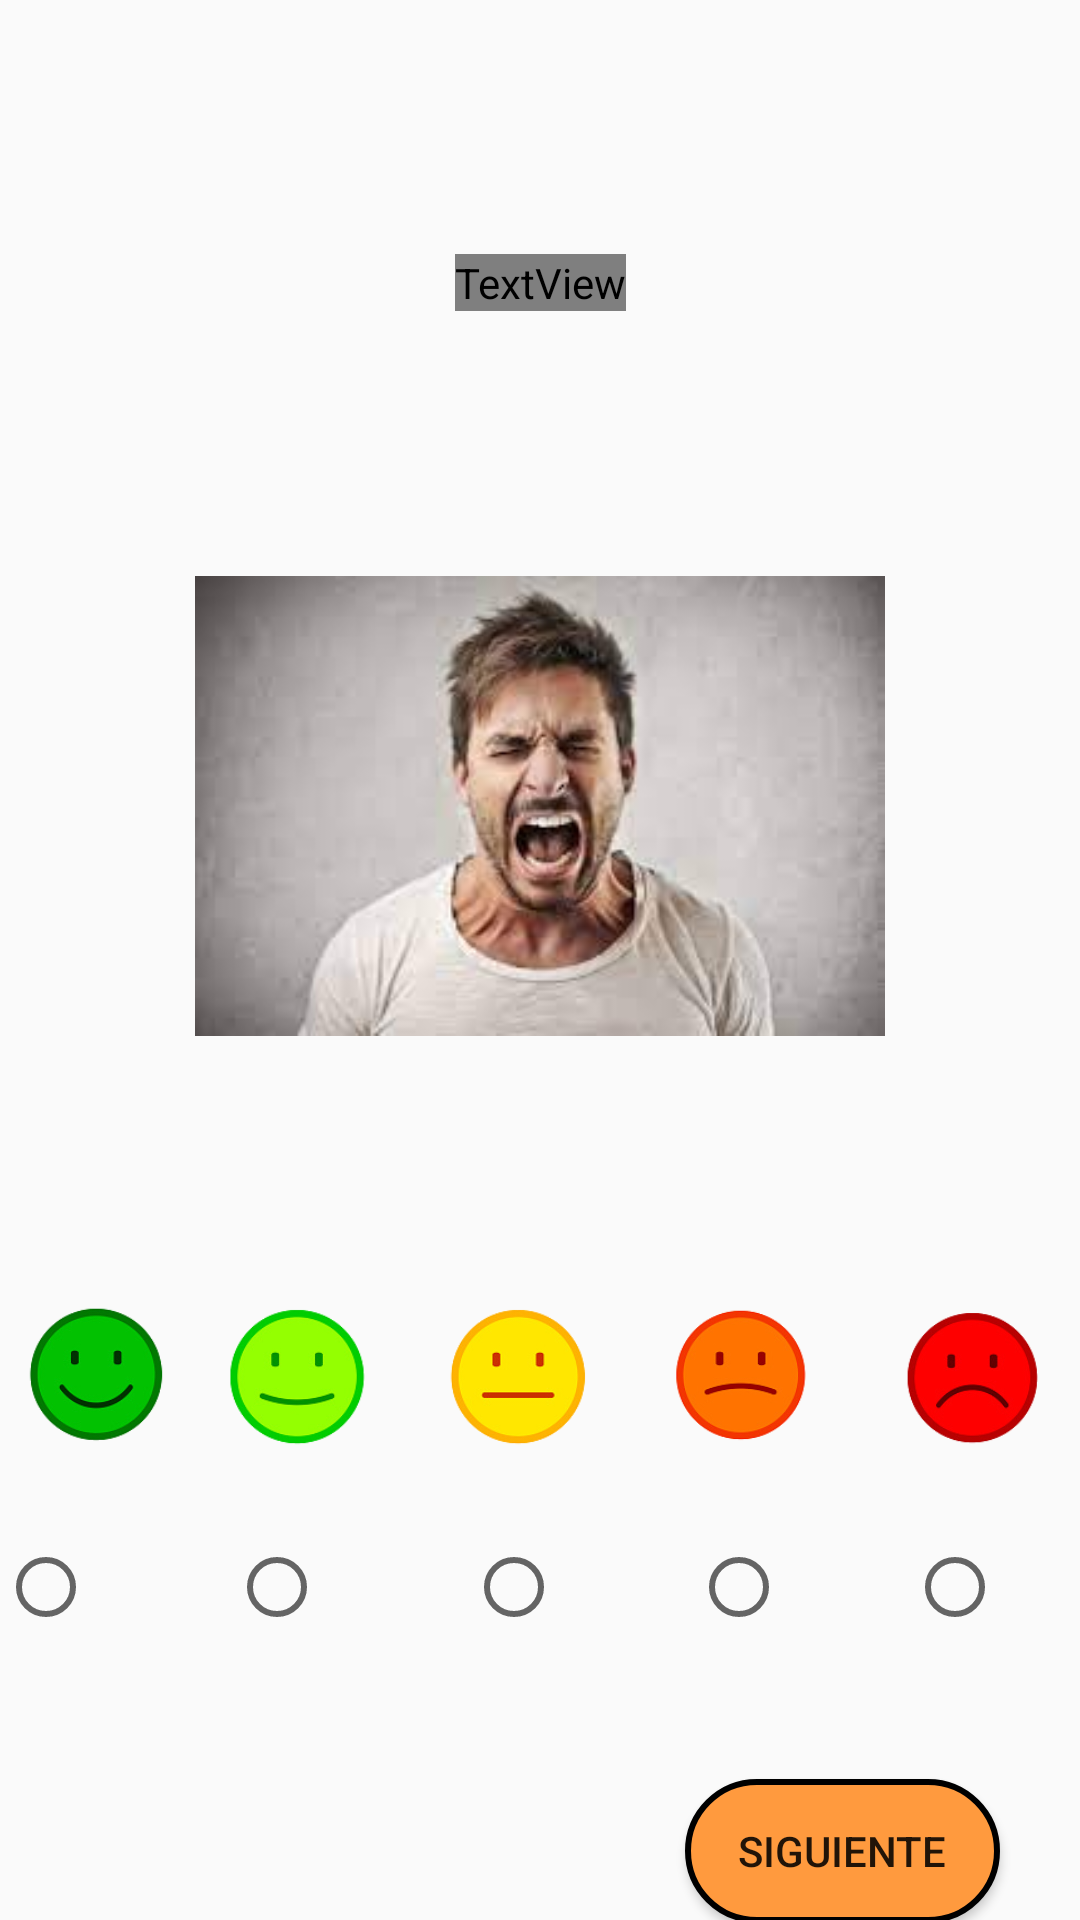

Icons on this 1080x1920 Android screen, each with its box as bbox=[x1, y1, x2, y2]:
carita: bbox=[30, 1308, 163, 1441], bbox=[230, 1310, 365, 1444], bbox=[450, 1310, 585, 1444], bbox=[676, 1310, 806, 1440], bbox=[907, 1313, 1038, 1443]
